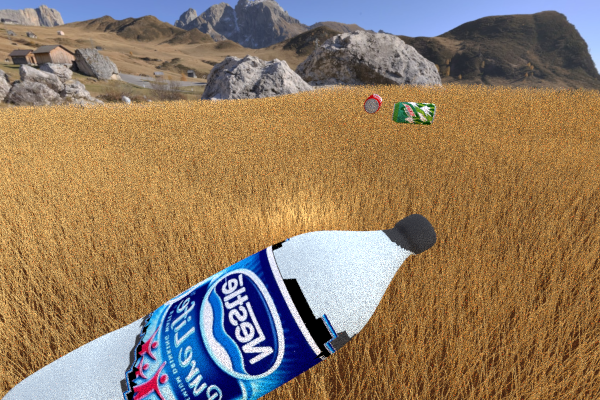Plastic Bottle: (0, 213, 436, 400), (391, 101, 436, 125), (363, 94, 382, 113)
